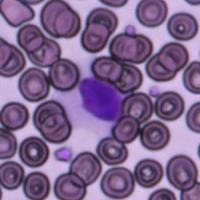L: (72, 73, 123, 129)
